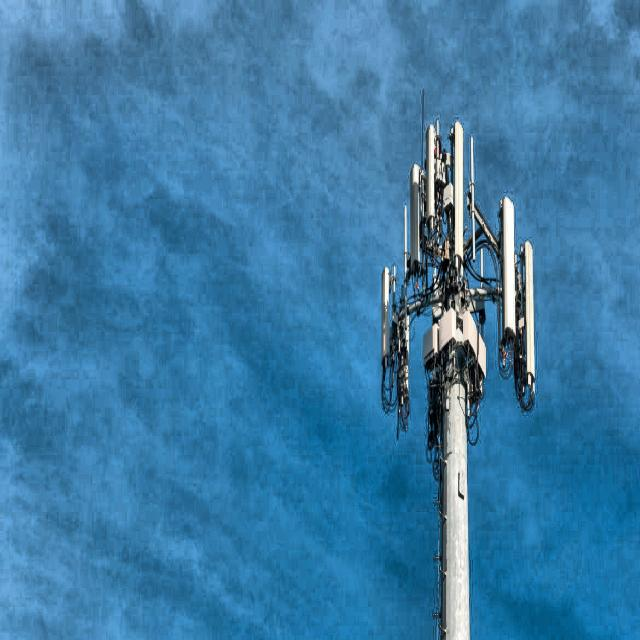antenna: (500, 197, 516, 343), (522, 241, 535, 390), (453, 121, 463, 266), (409, 163, 421, 271), (425, 124, 436, 227), (381, 266, 390, 369)
